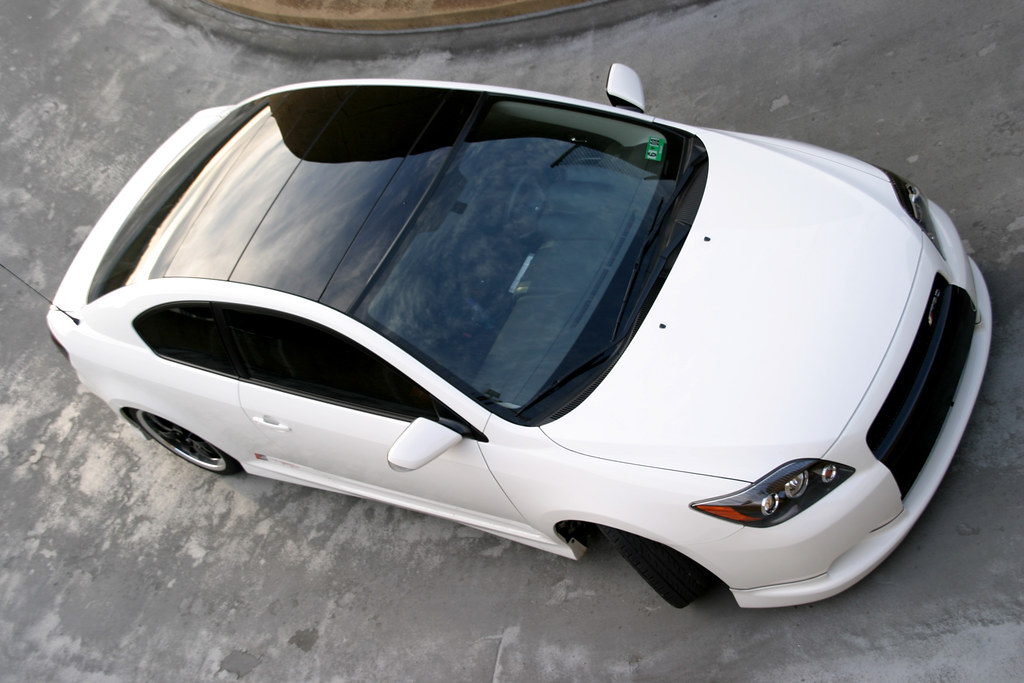car: (46, 60, 999, 612)
